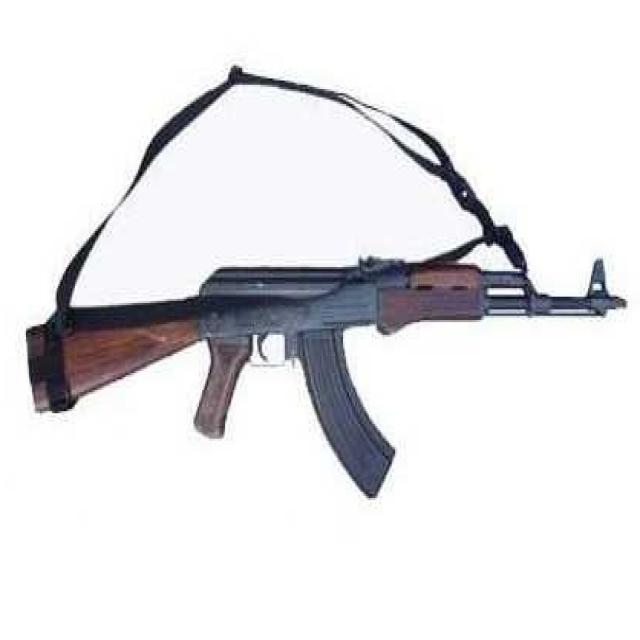heavyweapon: (12, 239, 624, 521)
